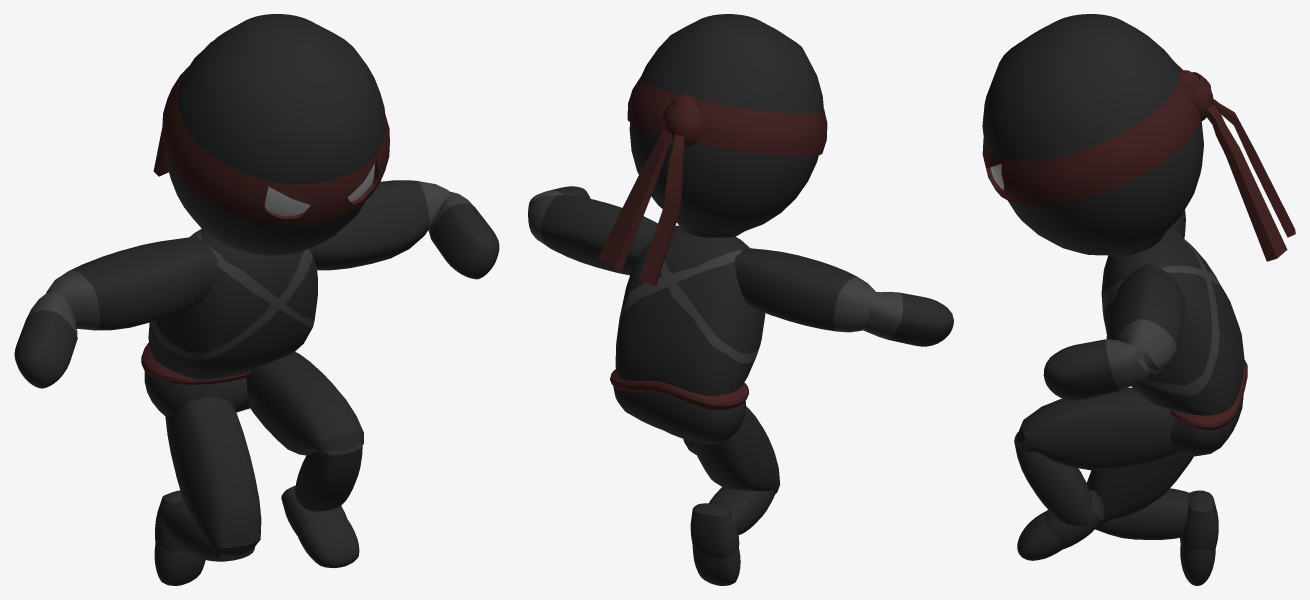
Rendered from ninja_airborne.fbx.
3 renders of one model, left to right at view 1: azimuth 30°, elevation 25°; view 2: azimuth 150°, elevation 25°; view 3: azimuth 270°, elevation 25°, orthographic. The views are drawn at different scales.
Parts seen in each view (by area): view 1: ninja_airborne; view 2: ninja_airborne; view 3: ninja_airborne.
Part boxes in pixels (x1,y1,x2,y2): ninja_airborne: [14, 14, 499, 585]; ninja_airborne: [528, 14, 953, 585]; ninja_airborne: [982, 14, 1295, 585].
Size of the model in its own units: 153 by 185 by 90.67.
